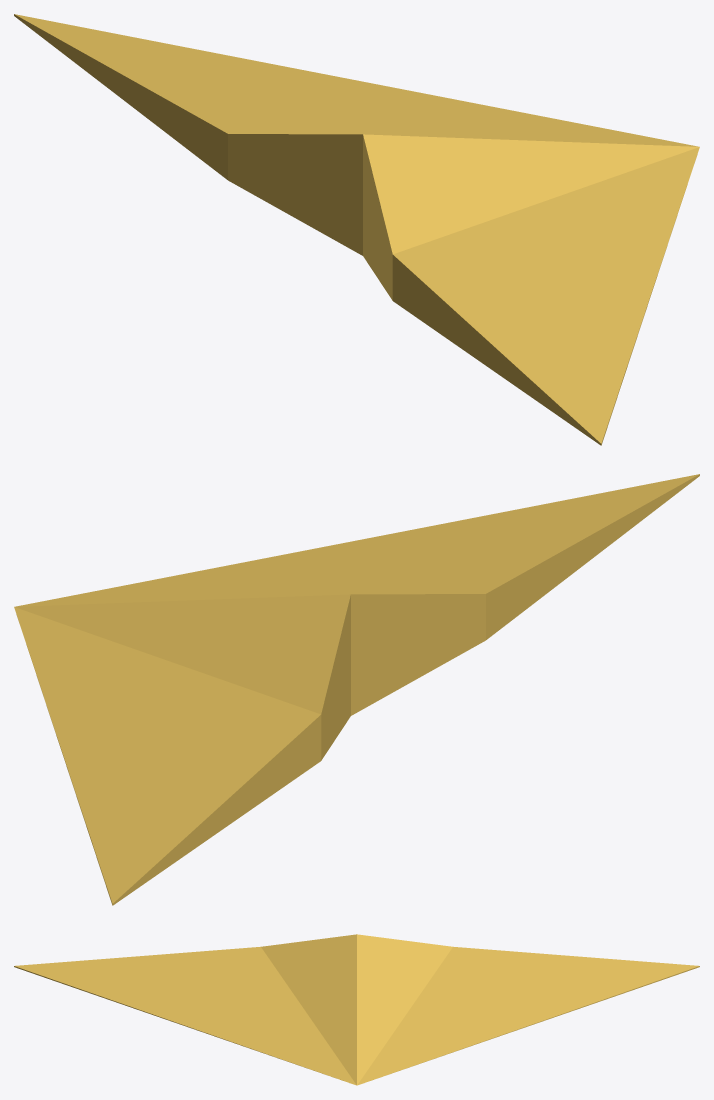
The model's file is ship.fbx.
3 views of the same model, one above another, from view 1: azimuth 30°, elevation 25°; view 2: azimuth 150°, elevation 25°; view 3: azimuth 270°, elevation 25° (orthographic). The views are drawn at different scales.
Visible parts, largest first — view 1: Cube; view 2: Cube; view 3: Cube.
Part boxes in pixels (<box>): Cube: <box>14,14,699,445</box>; Cube: <box>14,474,699,905</box>; Cube: <box>14,934,699,1085</box>.
Size of the model in its own units: 710 by 210 by 1840.
